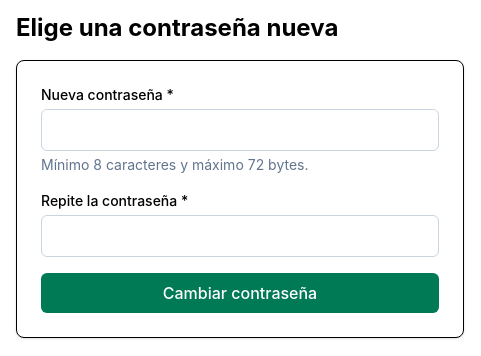
Test: ResetPasswordPage › retira el token de la URL y lo envía al cambiar la contraseña
In the password field labelled "Nueva contraseña *": (240, 130) [41, 109, 439, 151], type "nuevaclave1"
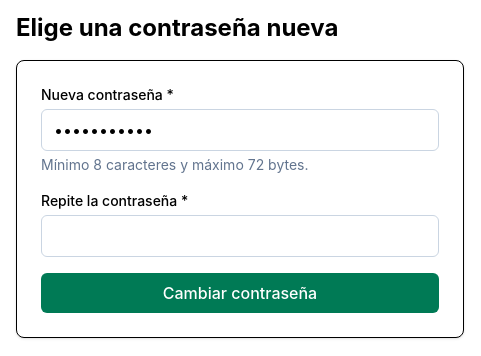
In the password field labelled "Repite la contraseña *": (240, 236) [41, 215, 439, 257], type "nuevaclave1"
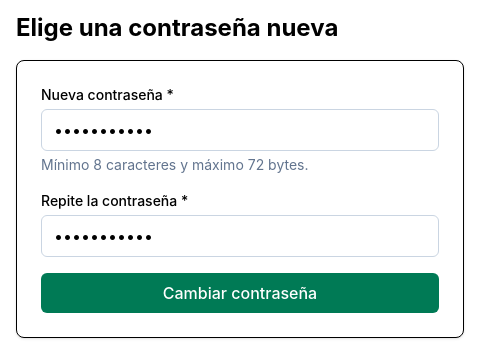
Click the button "Cambiar contraseña": (240, 293) [41, 273, 439, 313]
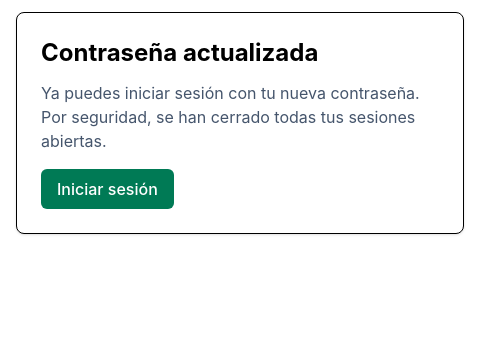
Expected: the heading "Contraseña actualizada" is shown, [41, 38, 318, 67]
